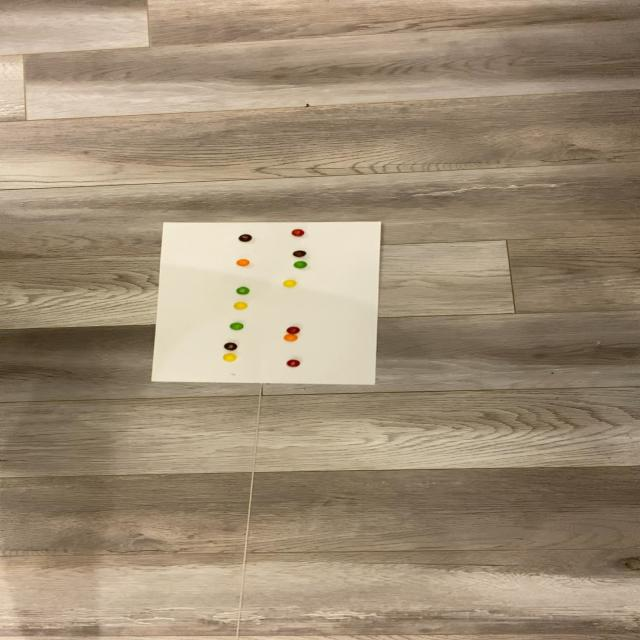smartie: (286, 326, 301, 335), (223, 353, 238, 362), (224, 341, 238, 350), (235, 286, 249, 295), (283, 279, 297, 288), (229, 322, 244, 330), (293, 261, 308, 269), (237, 234, 251, 242), (293, 250, 307, 258), (236, 258, 250, 266), (290, 229, 304, 237), (234, 302, 248, 310), (284, 334, 299, 341), (288, 360, 301, 368)
